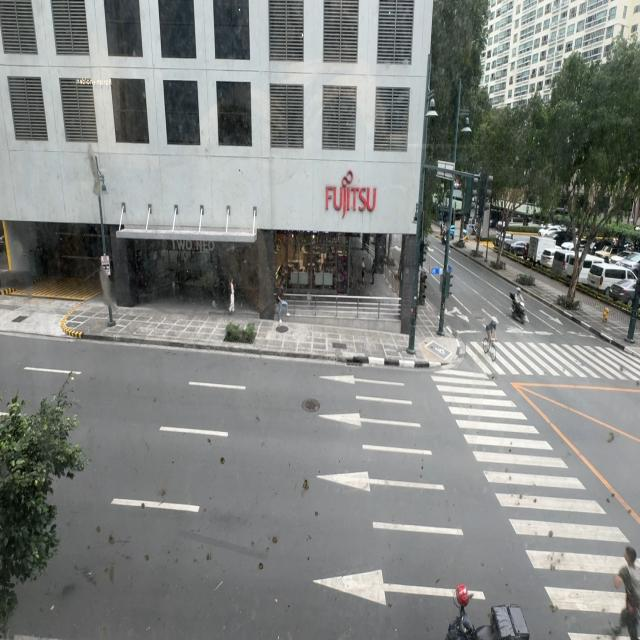crossing: (610, 547, 638, 637)
pedestrain: (229, 278, 235, 314)
